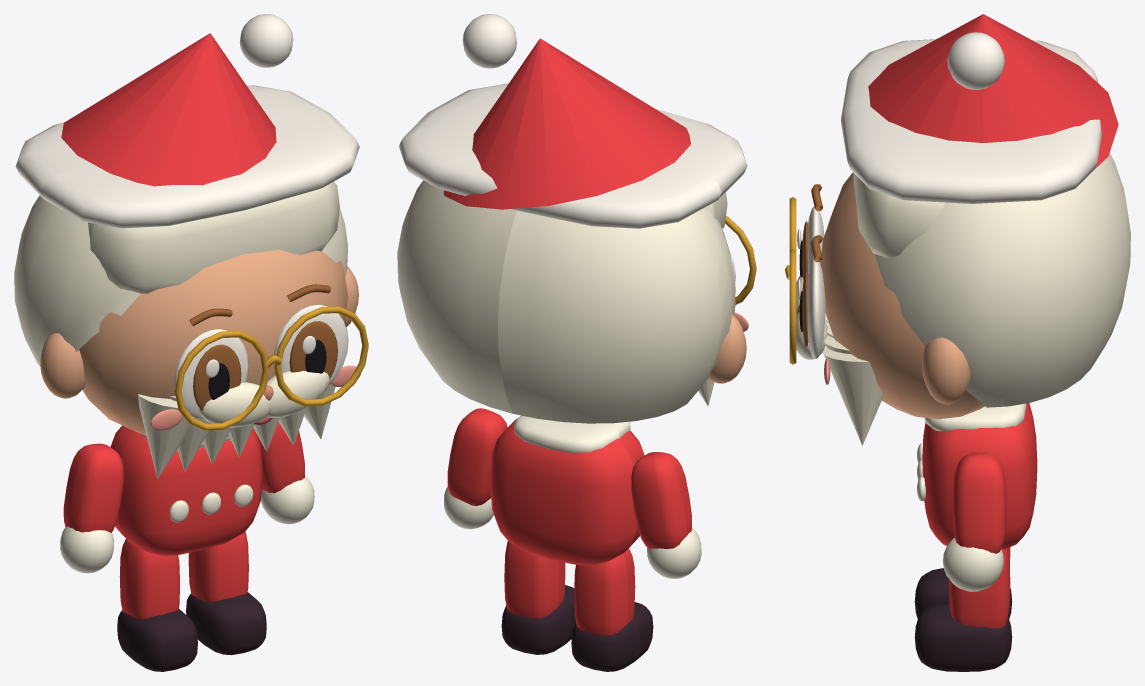
3 renders of one model, left to right at view 1: azimuth 30°, elevation 25°; view 2: azimuth 150°, elevation 25°; view 3: azimuth 270°, elevation 25°, orthographic. The views are drawn at different scales.
Parts seen in each view (by area): view 1: 산타; view 2: 산타; view 3: 산타.
Part boxes in pixels (box(x1,y1,x2,y2)): 산타: box(14, 14, 368, 671); 산타: box(397, 14, 756, 671); 산타: box(785, 14, 1130, 671).
Bounding box in the file's own units: 1.11 × 2.08 × 0.9968.
